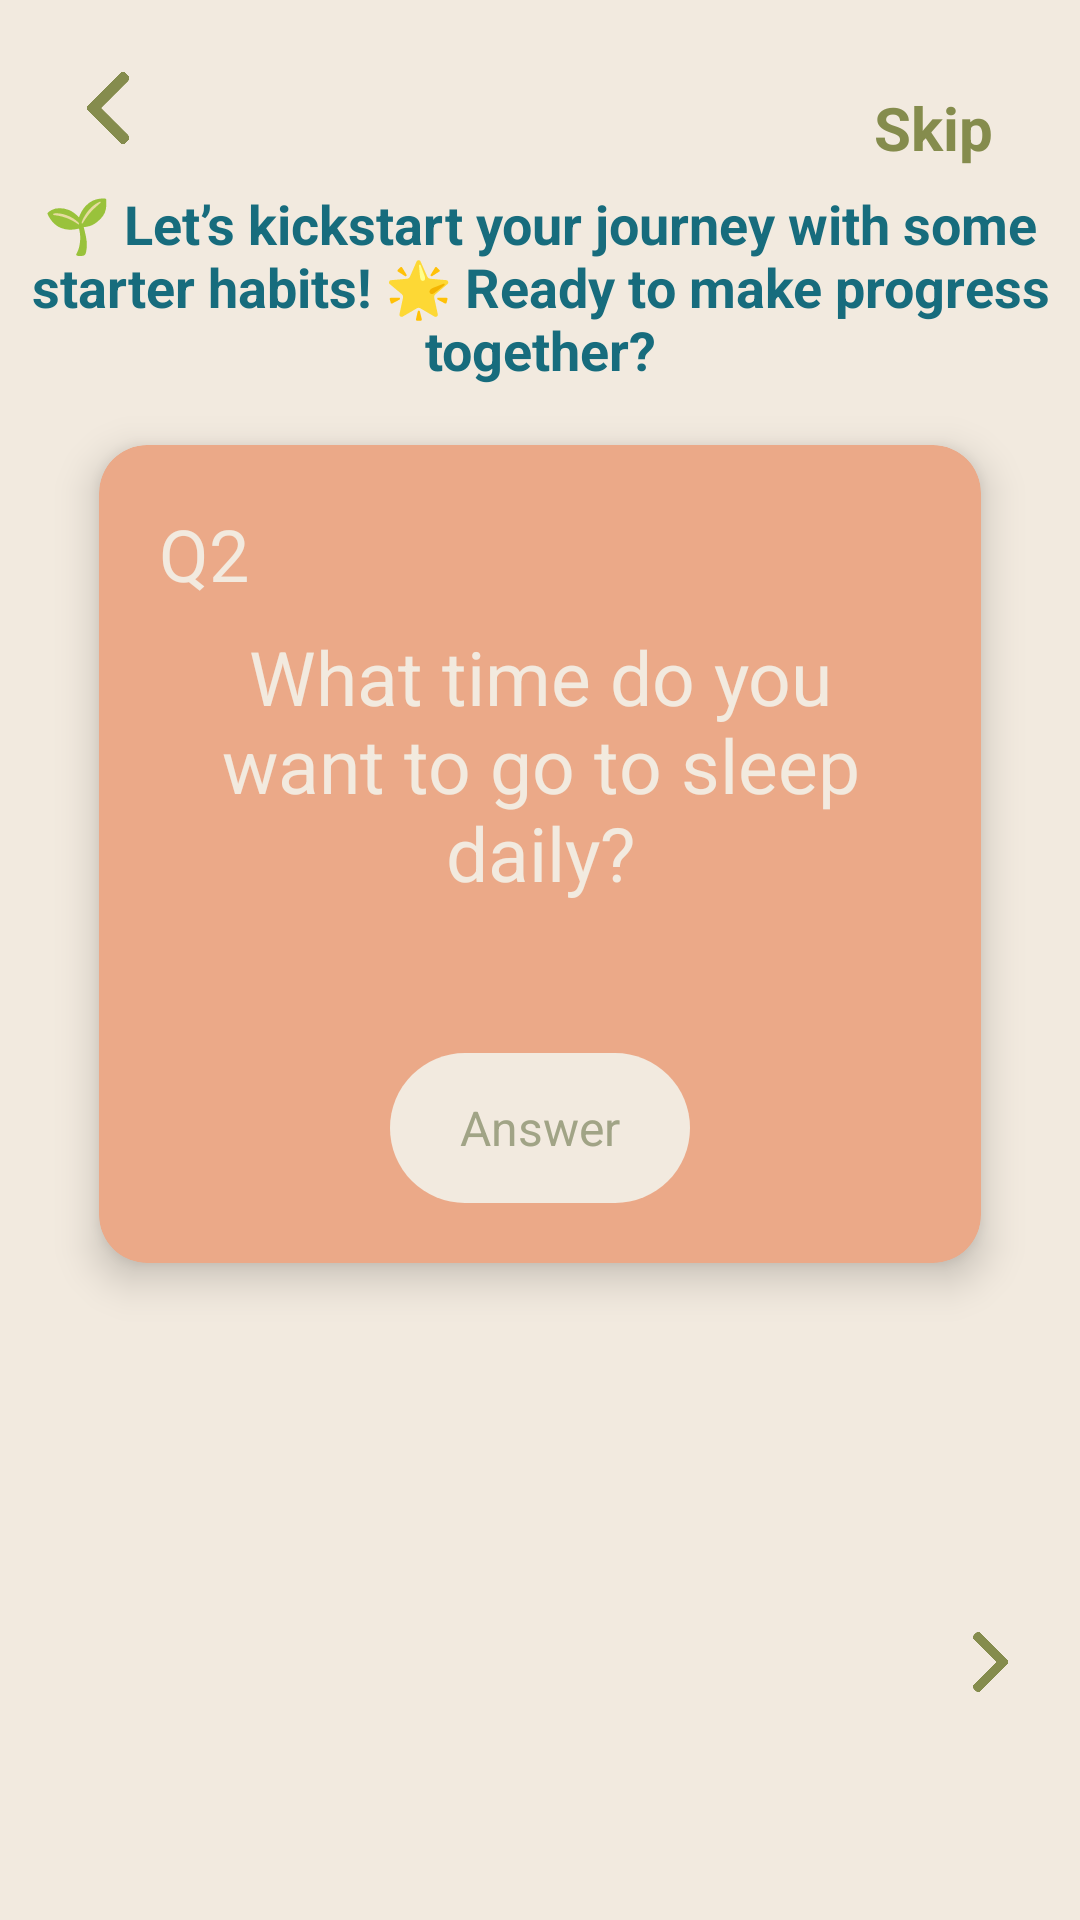

Icon bounding boxes for this 1080x1920 phone screenshot, format (x1, y1, x2, y2):
back arrow: (87, 72, 129, 144)
Continue: (973, 1632, 1008, 1692)
